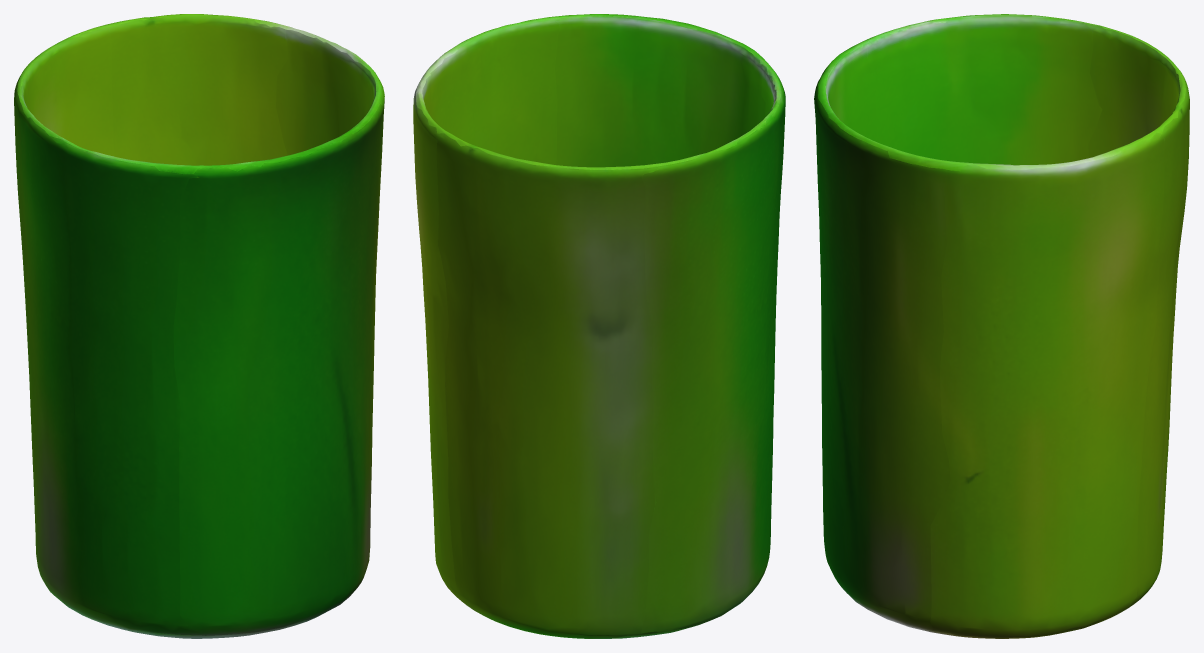
The picture shows the model from 3 angles, left to right: view 1: azimuth 30°, elevation 25°; view 2: azimuth 150°, elevation 25°; view 3: azimuth 270°, elevation 25°; orthographic projection.
Parts seen in each view (by area): view 1: geometry_0; view 2: geometry_0; view 3: geometry_0.
Part boxes in pixels (left/top/right/bottom): geometry_0: left=14, top=14, right=384, bottom=638; geometry_0: left=413, top=14, right=785, bottom=638; geometry_0: left=814, top=14, right=1189, bottom=638.
Bounding box in the file's own units: 0.0673 × 0.0979 × 0.0687.
